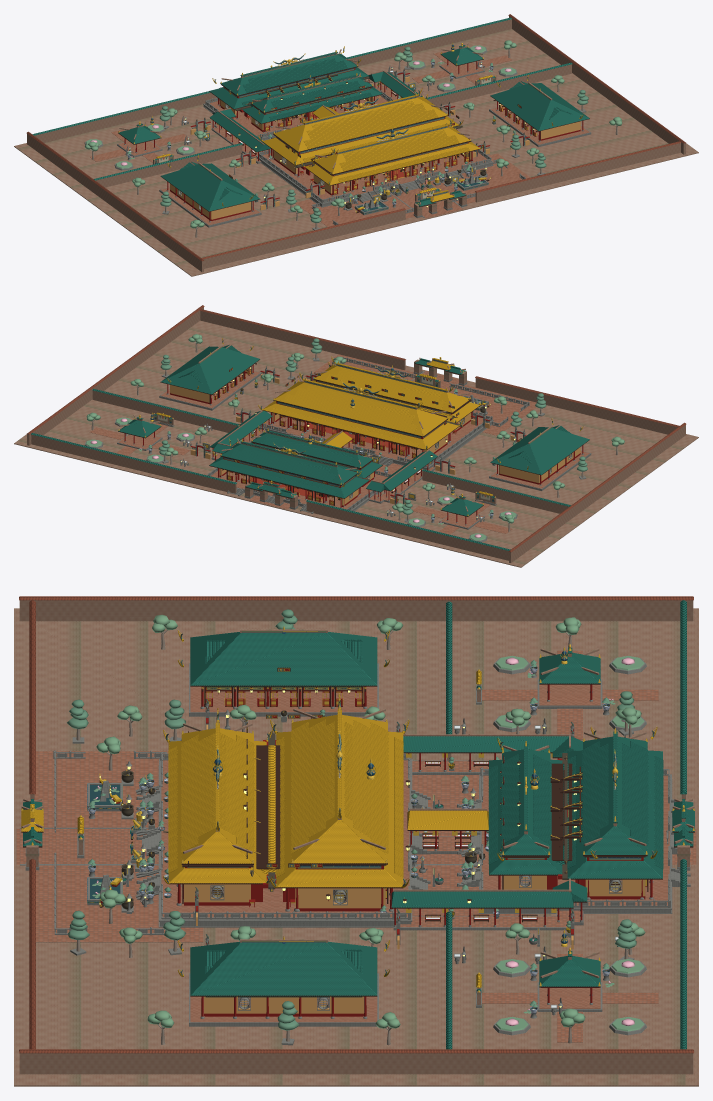
File: T07_dien_can_thanh_khon_thai.glb
The picture shows the model from 3 angles, top to bottom: view 1: azimuth 30°, elevation 25°; view 2: azimuth 150°, elevation 25°; view 3: azimuth 270°, elevation 25°; orthographic projection. The views are drawn at different scales.
Visible parts, largest first — view 1: T07_MainArchitecture, T07_v02_HeritageDetails; view 2: T07_MainArchitecture; view 3: T07_MainArchitecture, T07_v02_HeritageDetails.
Part boxes in pixels (left/top/right/bottom): T07_MainArchitecture: left=14, top=14, right=698, bottom=276; T07_v02_HeritageDetails: left=235, top=76, right=488, bottom=215; T07_MainArchitecture: left=14, top=305, right=698, bottom=567; T07_MainArchitecture: left=14, top=596, right=698, bottom=1086; T07_v02_HeritageDetails: left=87, top=731, right=567, bottom=905.
Size of the model in its own units: 140 by 13.93 by 85.
25 materials, 9 textured.
